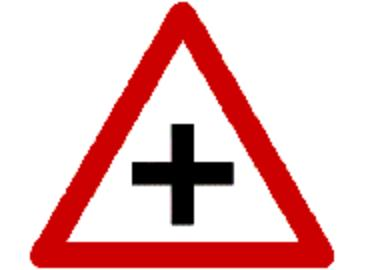fork_road: (27, 0, 337, 269)
